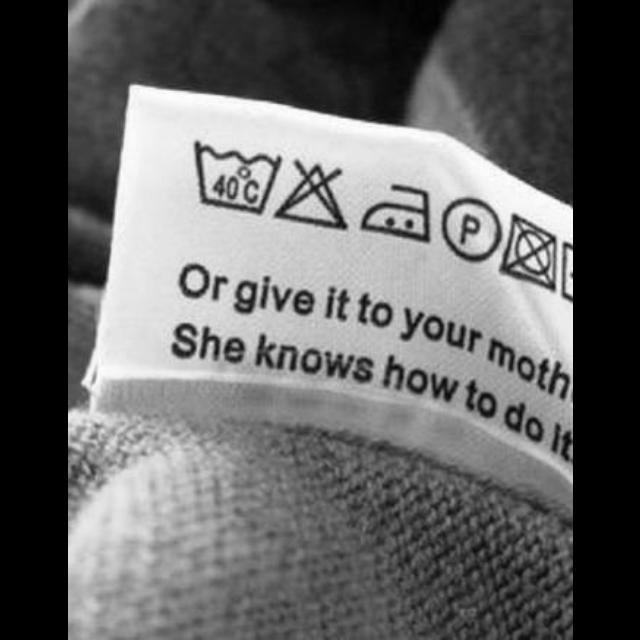40C: (190, 136, 282, 220)
DN_bleach: (270, 154, 352, 234)
DN_tumble_dry: (496, 210, 560, 294)
iron_medium: (356, 179, 436, 247)
normal_dry_clean_solvents: (436, 191, 506, 267)
